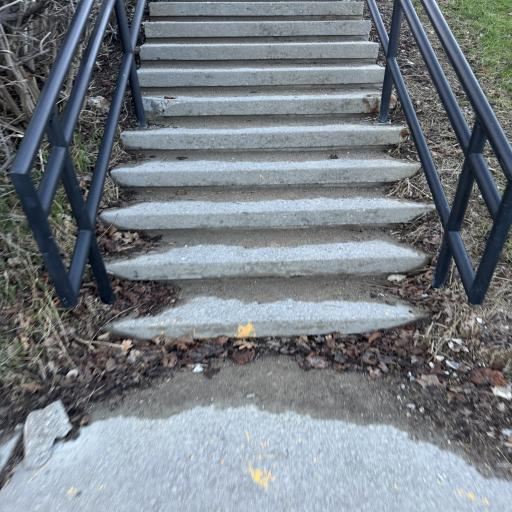Stairs: (101, 1, 433, 338)
